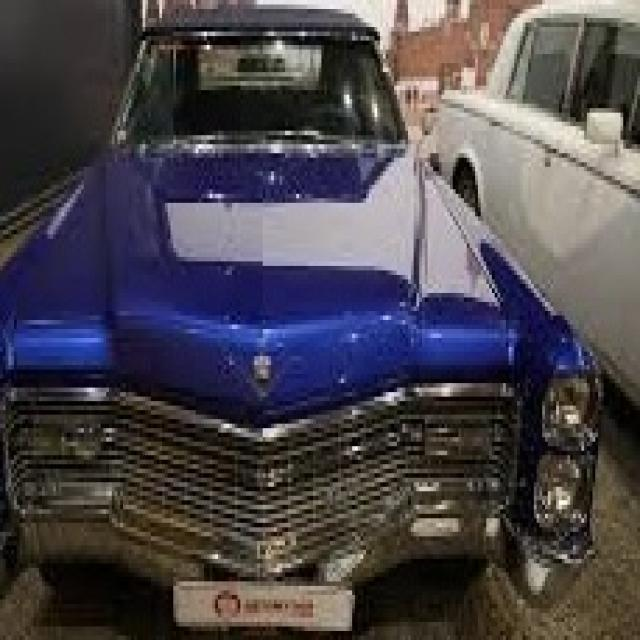blue: (7, 0, 607, 640)
